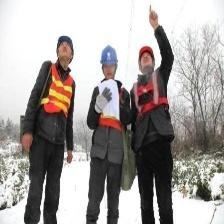Person: (19, 33, 76, 224), (85, 42, 132, 224), (132, 36, 175, 224)
helmet: (100, 42, 122, 67)
vest: (131, 65, 170, 123), (45, 59, 74, 121)
